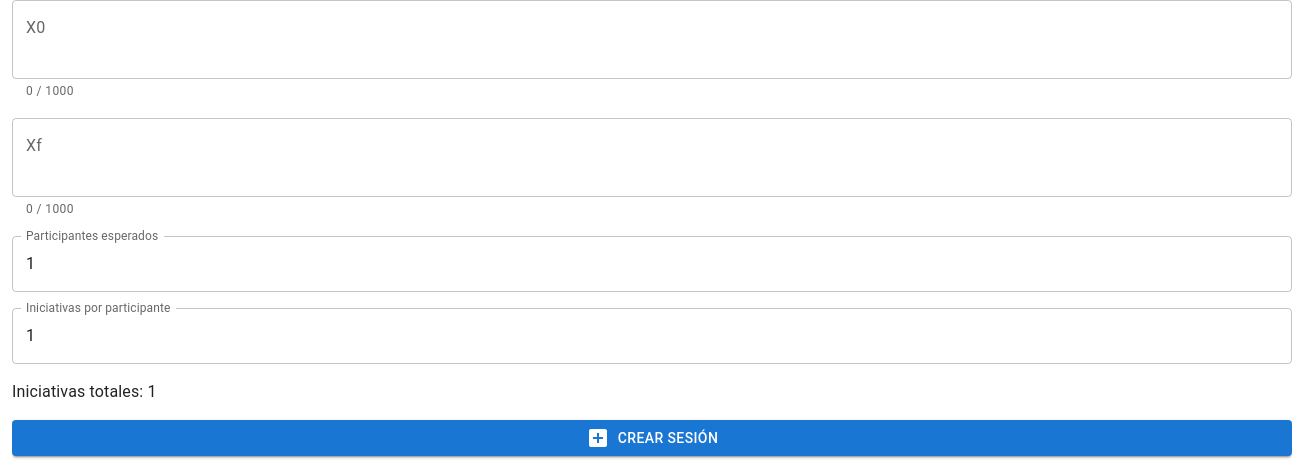
Test: formulario de configuración › resume el total de iniciativas al cambiar las cantidades
Replace the text in the number field labelled "Participantes esperados" with "4" at point(652, 264), box [12, 236, 1292, 292]
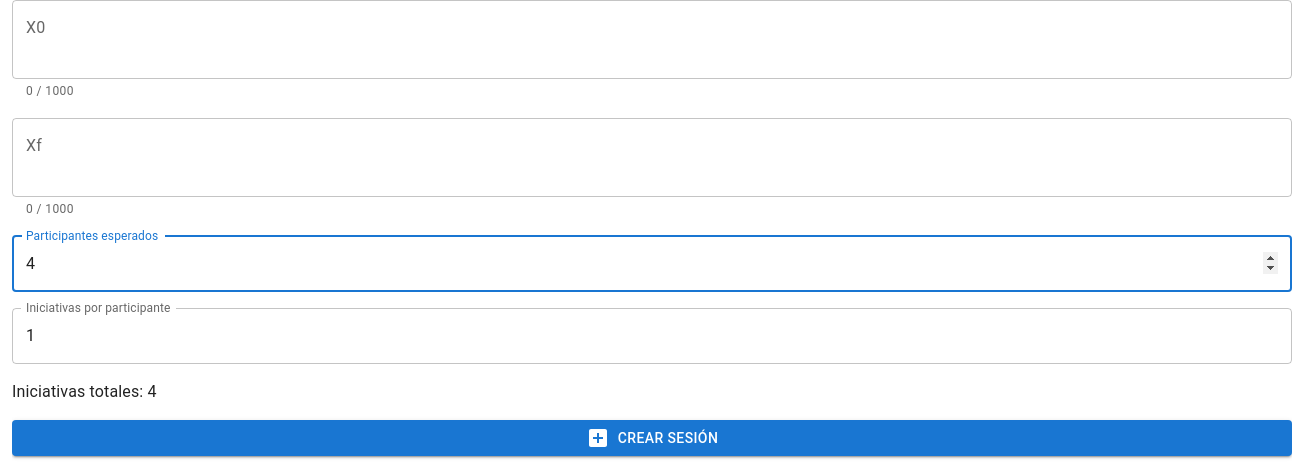
Replace the text in the number field labelled "Iniciativas por participante" with "3" at point(652, 336), box [12, 308, 1292, 364]
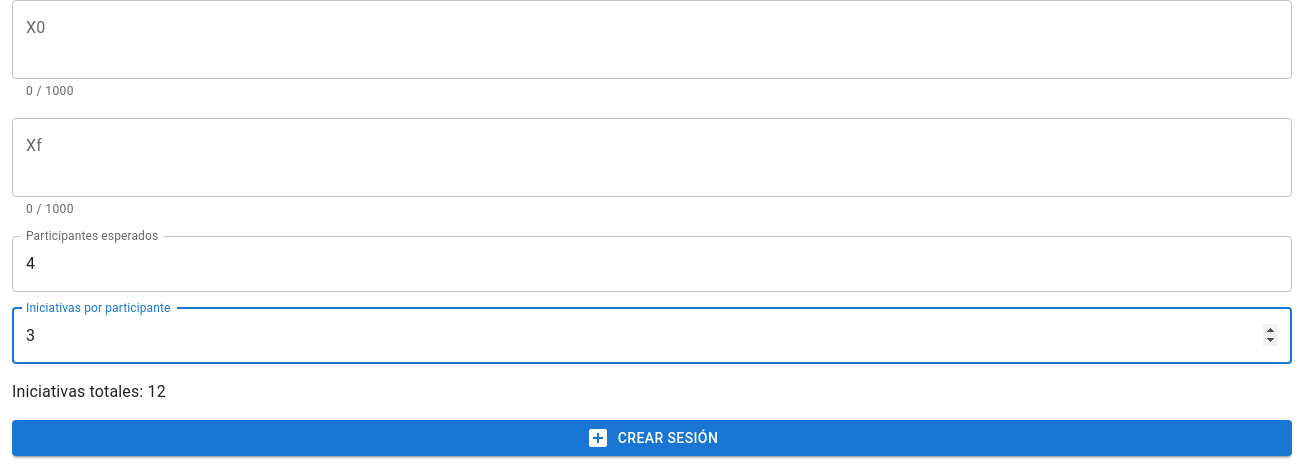
Result: the text "Iniciativas totales: 12" is shown at [12, 382, 166, 401]
